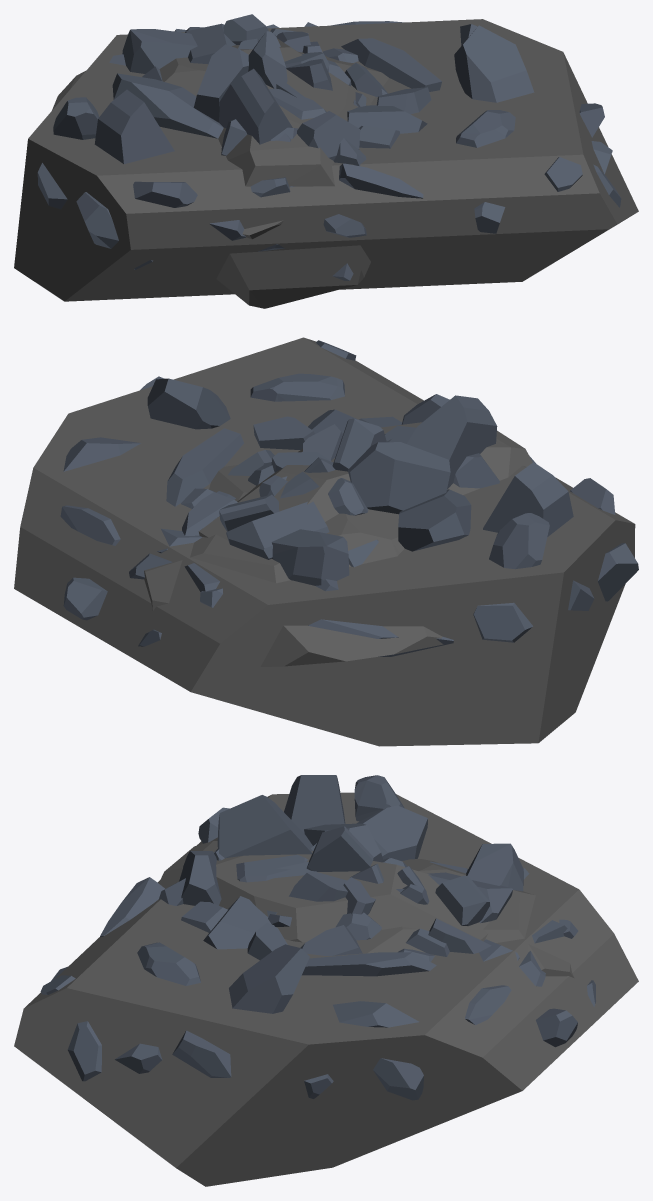
File: Metal-Deposits.fbx
3 views of the same model, one above another, from view 1: azimuth 30°, elevation 25°; view 2: azimuth 150°, elevation 25°; view 3: azimuth 270°, elevation 25° (orthographic). The views are drawn at different scales.
Parts seen in each view (by area): view 1: SM_Metal_C, SM_Metal_A, SM_Metal_B; view 2: SM_Metal_C, SM_Metal_B, SM_Metal_A; view 3: SM_Metal_C, SM_Metal_A, SM_Metal_B.
Boxes of the visible parts, bbox=[...] form: SM_Metal_C: bbox=[14, 19, 638, 301]; SM_Metal_A: bbox=[216, 14, 371, 308]; SM_Metal_B: bbox=[52, 23, 431, 239]; SM_Metal_C: bbox=[14, 337, 638, 746]; SM_Metal_B: bbox=[144, 394, 497, 666]; SM_Metal_A: bbox=[192, 418, 532, 540]; SM_Metal_C: bbox=[14, 775, 638, 1186]; SM_Metal_A: bbox=[158, 826, 490, 956]; SM_Metal_B: bbox=[179, 795, 574, 978].
Bounding box in the file's own units: 509 × 524 × 214.
